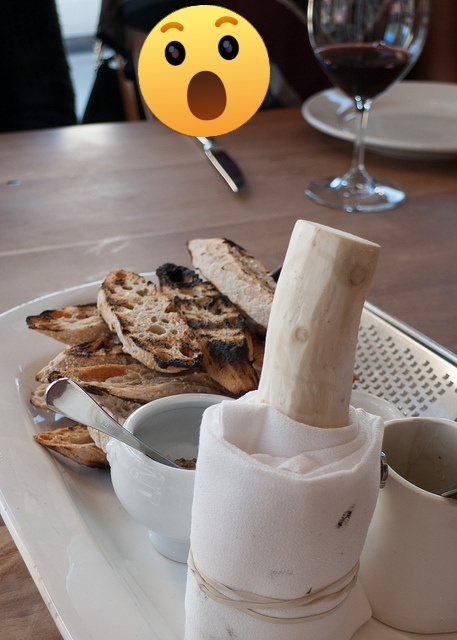wow: (138, 5, 270, 137)
